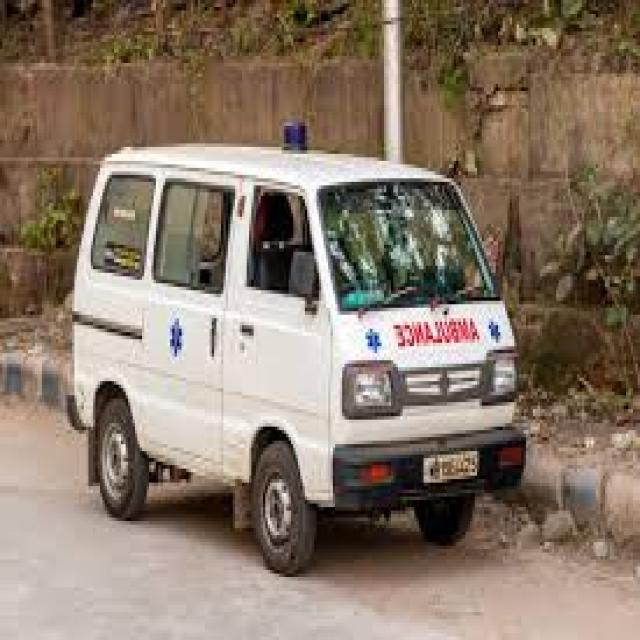ambulance: (74, 140, 524, 574)
